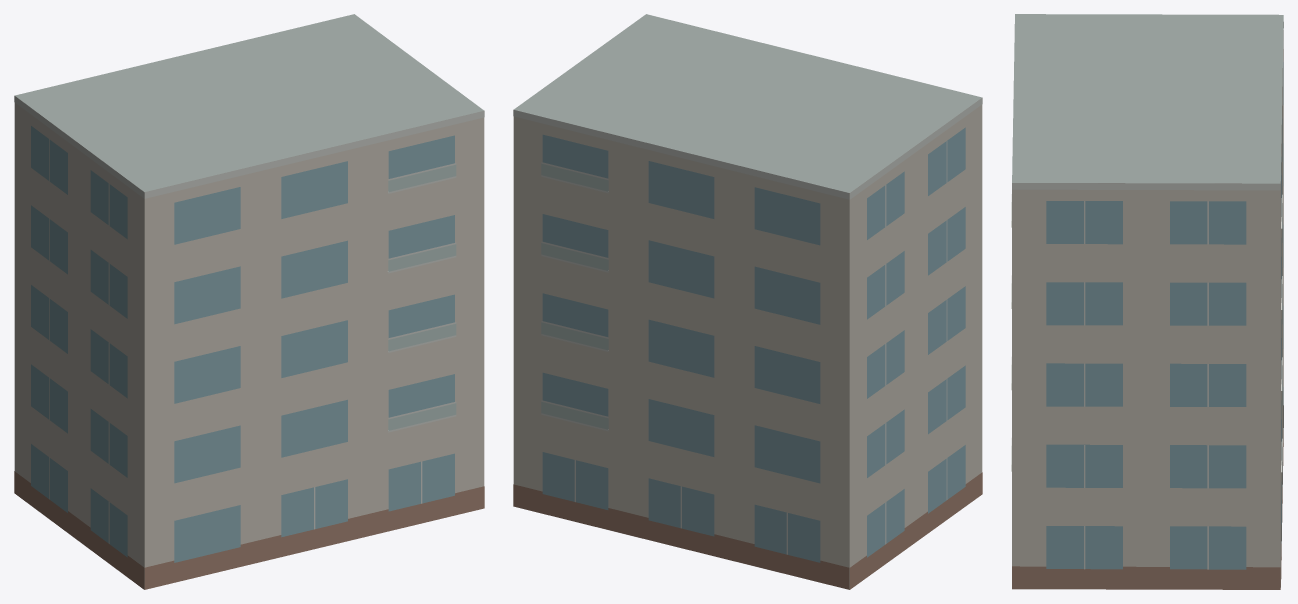
File: survey-upis-32877007.glb
3 views of the same model, side by side, from view 1: azimuth 30°, elevation 25°; view 2: azimuth 150°, elevation 25°; view 3: azimuth 270°, elevation 25° (orthographic). The views are drawn at different scales.
Visible parts, largest first — view 1: survey-upis-32877007.tmp; view 2: survey-upis-32877007.tmp; view 3: survey-upis-32877007.tmp.
Part boxes in pixels (x1,y1,x2,y2): survey-upis-32877007.tmp: (14,14,484,589); survey-upis-32877007.tmp: (513,14,982,589); survey-upis-32877007.tmp: (1011,14,1283,589).
Bounding box in the file's own units: 12.99 × 14.5 × 8.83.
